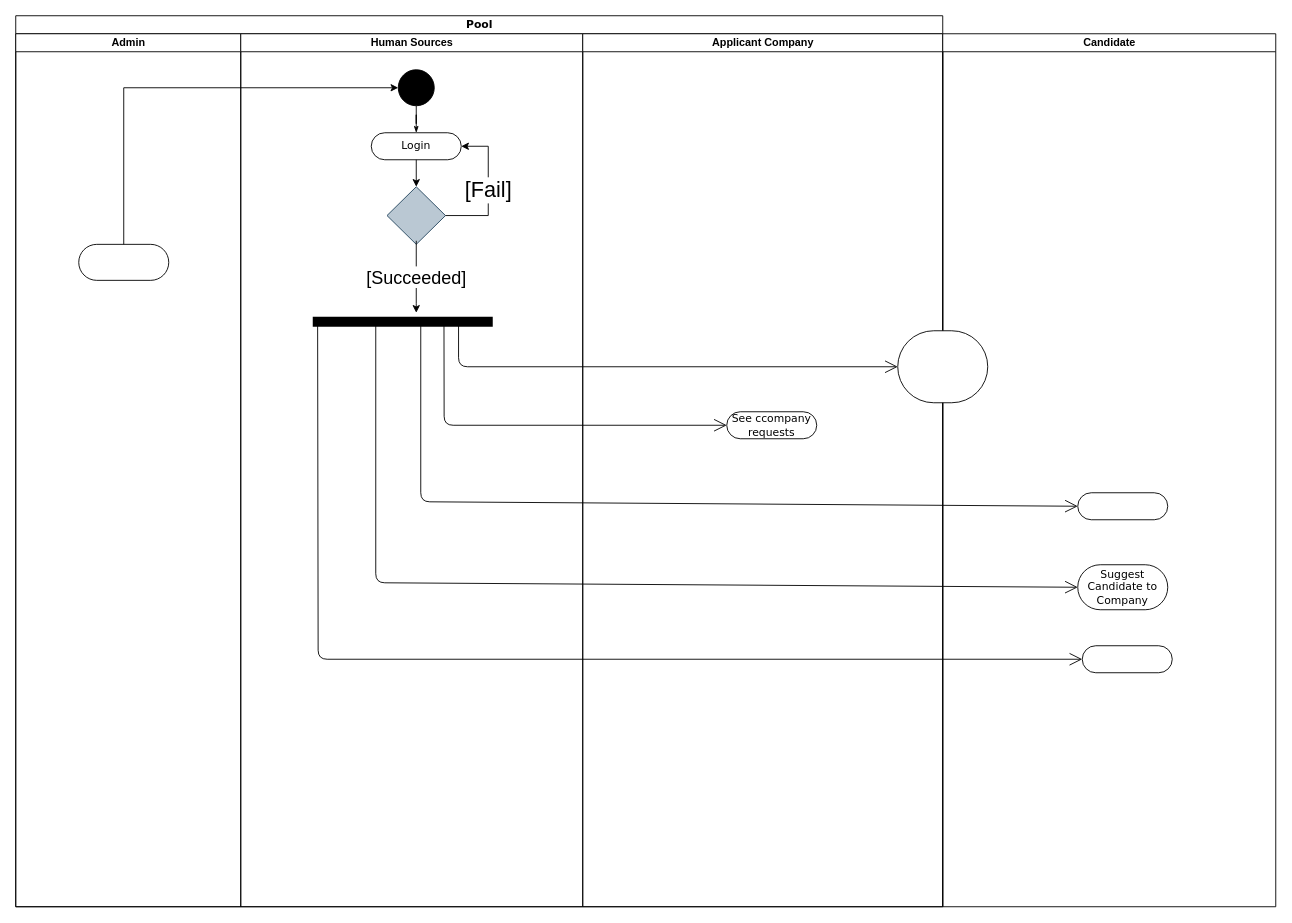
Some shapes in this 1292 by 923 pixel diagram are drawn without their labels. The centre of each missing label's shape, as x and y in pixels:
Add/Remove Human Sources: [123,261]
Arrange meeting between candidate and company: [942,366]
Delete candidate: [1122,506]
Give offer to candidate: [1126,659]
